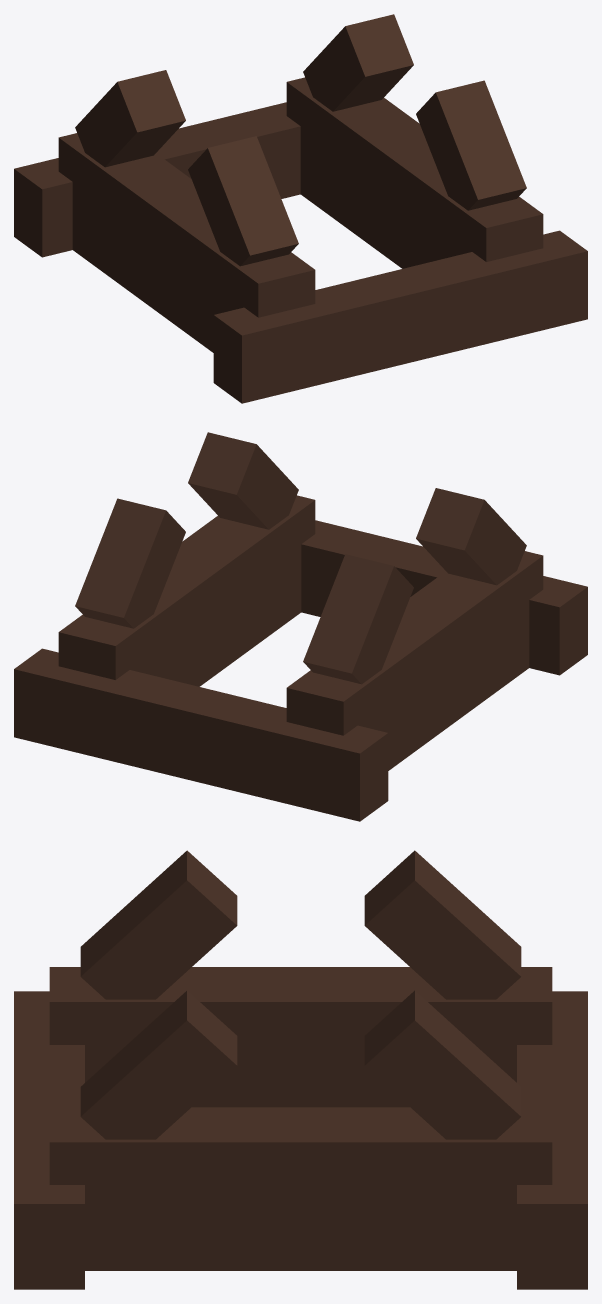
File: BarrelRack__Stillage.fbx
The picture shows the model from 3 angles, top to bottom: view 1: azimuth 30°, elevation 25°; view 2: azimuth 150°, elevation 25°; view 3: azimuth 270°, elevation 25°; orthographic projection. The views are drawn at different scales.
Visible parts, largest first — view 1: BarrelRack__Stillage; view 2: BarrelRack__Stillage; view 3: BarrelRack__Stillage.
Part boxes in pixels (x1,y1,x2,y2): BarrelRack__Stillage: (14, 14, 587, 403); BarrelRack__Stillage: (14, 432, 587, 821); BarrelRack__Stillage: (14, 850, 587, 1289).
Bounding box in the file's own units: 85 × 46.24 × 97.
1 material, 1 textured.
